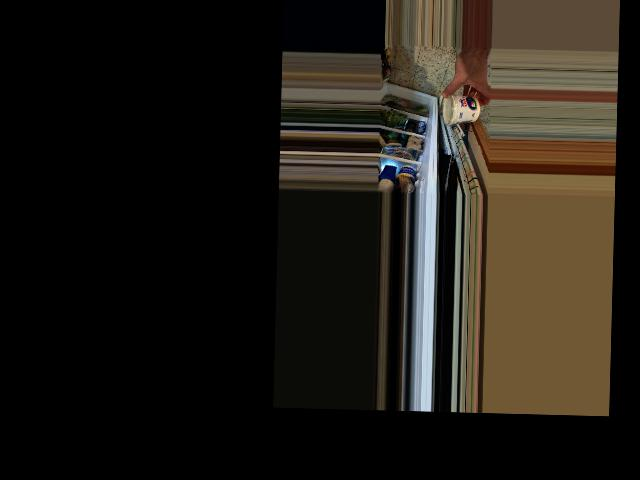cotage: (443, 94, 483, 127)
